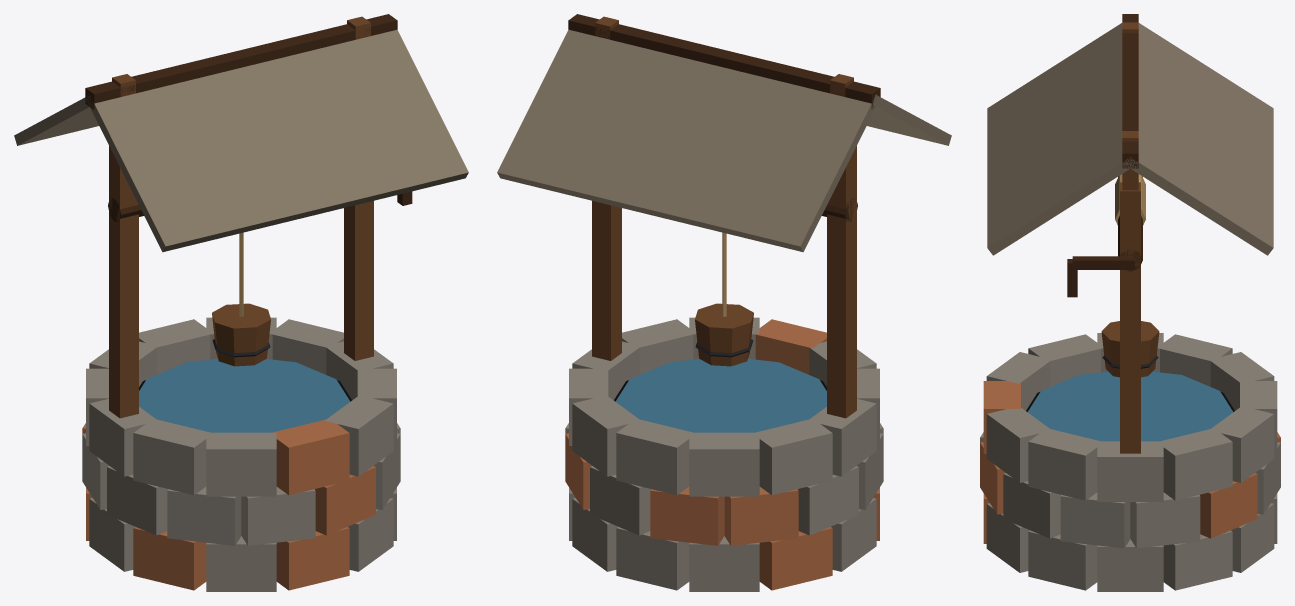
Rendered from SM_Well.obj.
The picture shows the model from 3 angles, left to right: view 1: azimuth 30°, elevation 25°; view 2: azimuth 150°, elevation 25°; view 3: azimuth 270°, elevation 25°; orthographic projection. The views are drawn at different scales.
Parts seen in each view (by area): view 1: SM_Well; view 2: SM_Well; view 3: SM_Well.
Boxes of the visible parts, x1=… form: SM_Well: x1=14, y1=14, x2=468, y2=591; SM_Well: x1=497, y1=14, x2=951, y2=591; SM_Well: x1=980, y1=14, x2=1280, y2=591.
Bounding box in the file's own units: 1.6 × 2.41 × 1.45.
